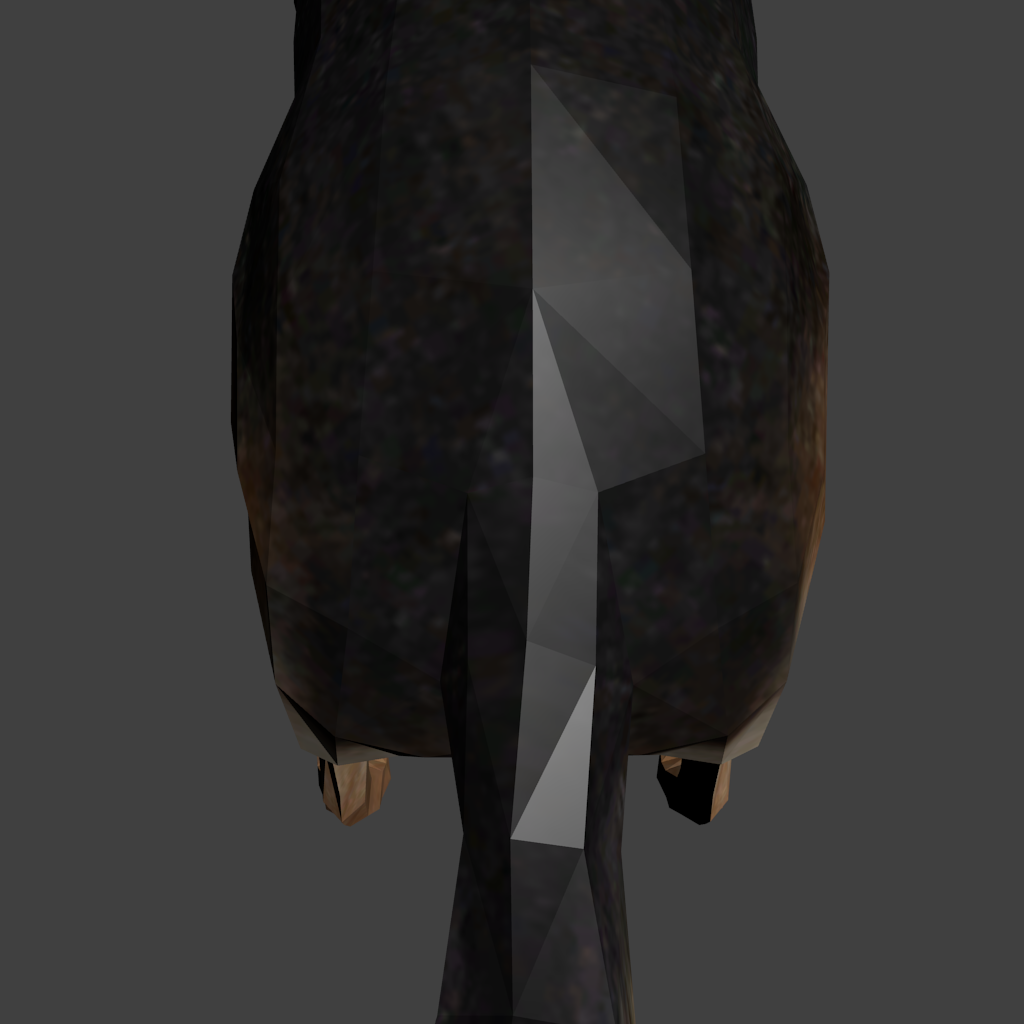Dog: (231, 0, 599, 1024)
